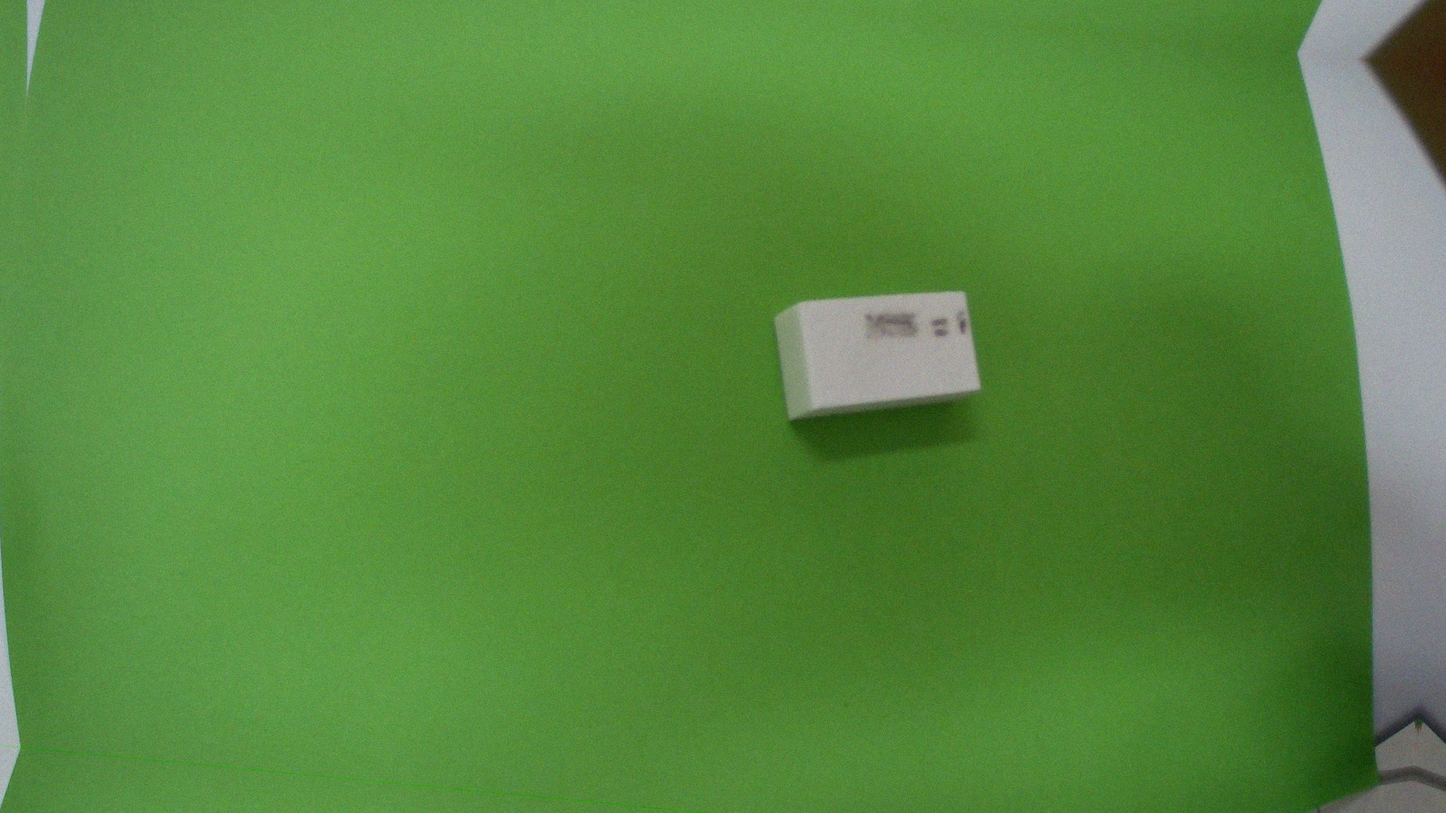gom: (765, 266, 987, 444)
